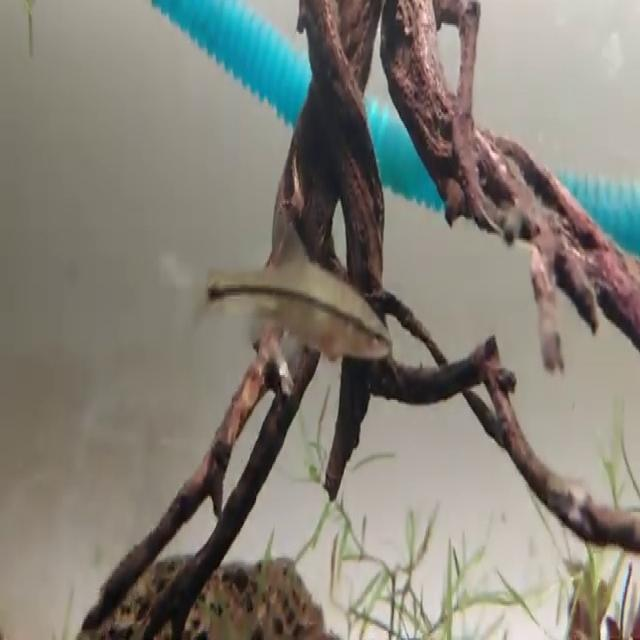Cakil Baligi: (163, 222, 394, 374)
